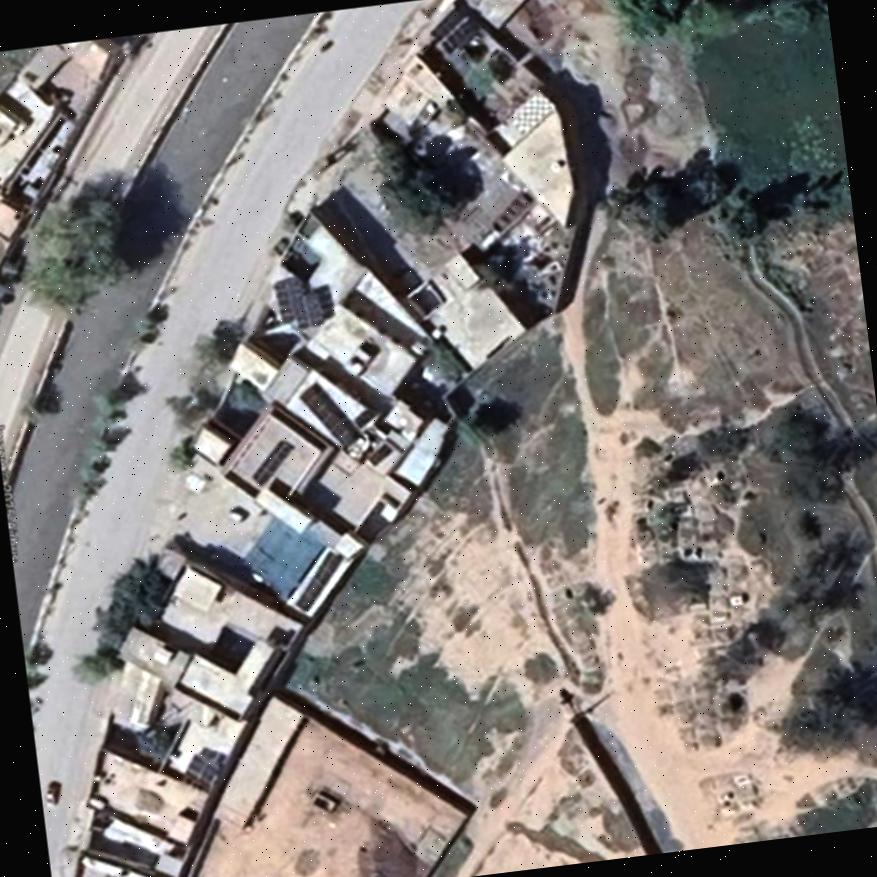Solarpanel: (302, 386, 359, 446), (297, 549, 340, 611), (252, 442, 290, 487), (294, 290, 322, 327), (187, 754, 215, 784)
